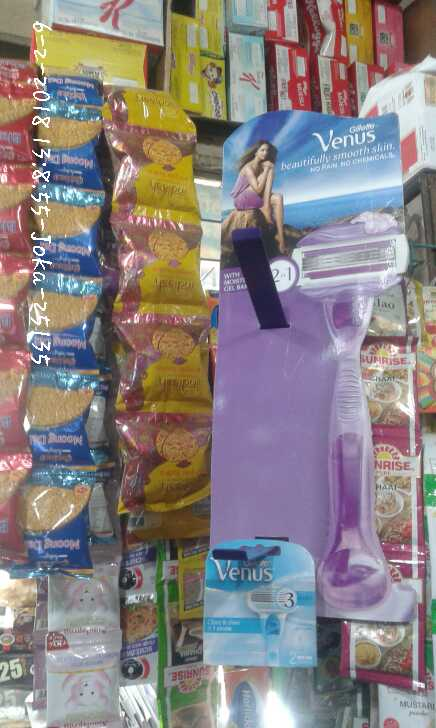venus: (208, 544, 317, 663)
